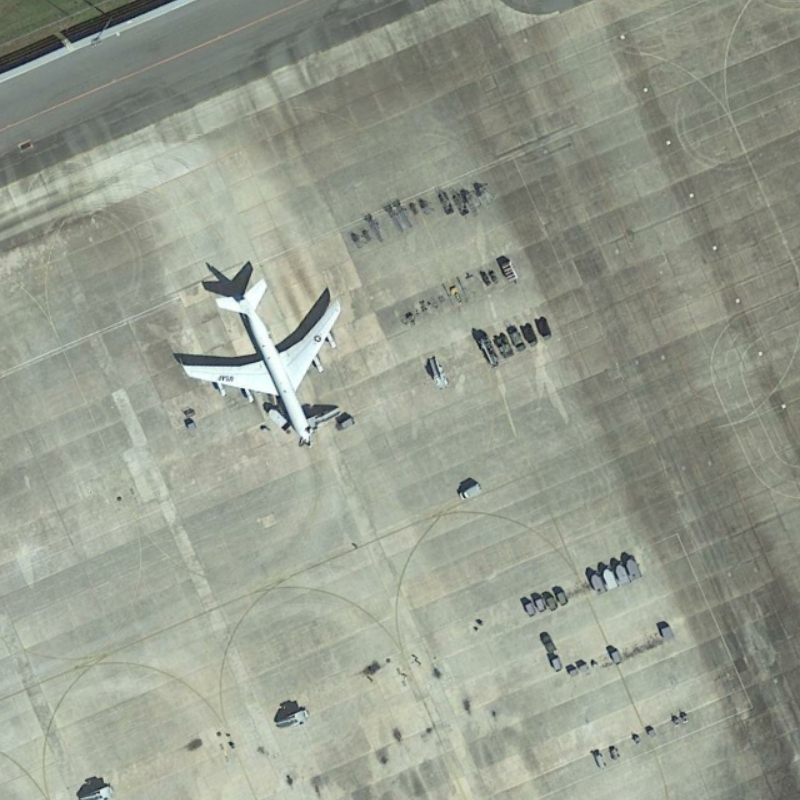A11: (176, 272, 343, 452)
